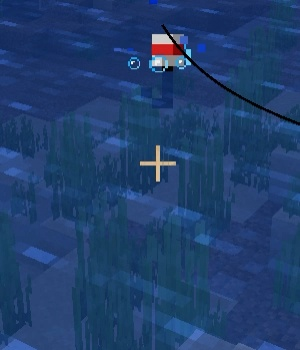up: (146, 29, 194, 117)
